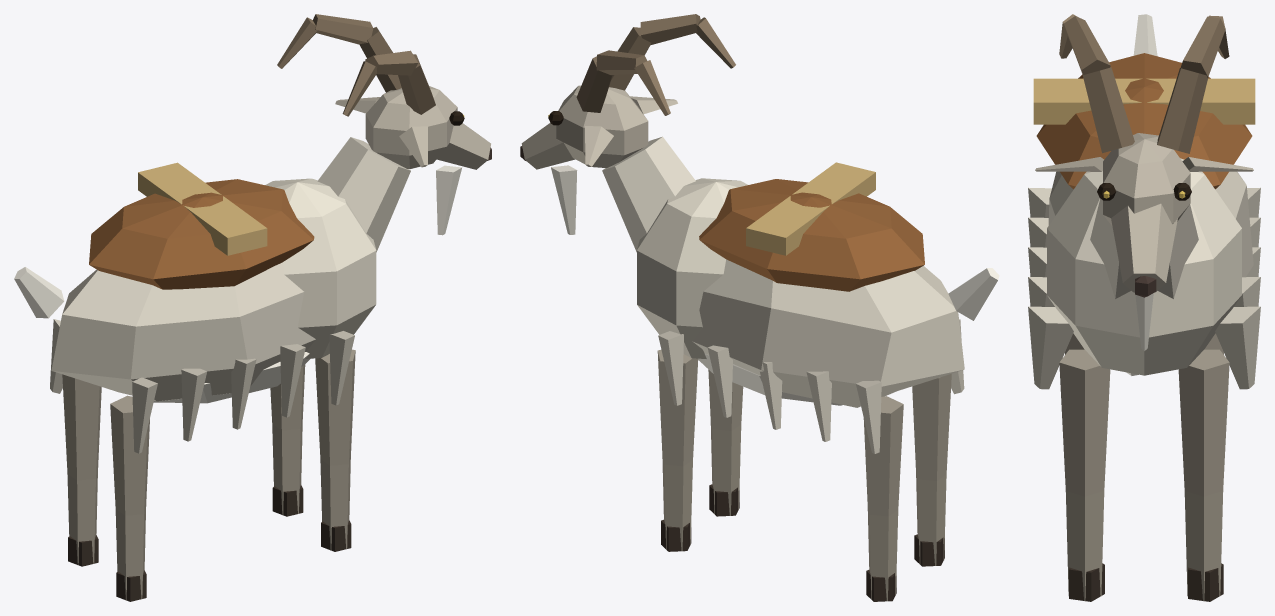
File: goat.glb
3 renders of one model, left to right at view 1: azimuth 30°, elevation 25°; view 2: azimuth 150°, elevation 25°; view 3: azimuth 270°, elevation 25°, orthographic. The views are drawn at different scales.
Visible parts, largest first — view 1: body, pet_armor, head, leg_bl, leg_br, leg_fr, leg_fl, tail; view 2: body, pet_armor, head, leg_br, leg_bl, leg_fl, leg_fr, tail; view 3: body, head, pet_armor, leg_fl, leg_fr, tail.
Boxes of the visible parts, x1=… form: body: x1=50, y1=137, x2=410, y2=453; pet_armor: x1=89, y1=162, x2=314, y2=289; head: x1=277, y1=14, x2=491, y2=235; leg_bl: x1=62, y1=374, x2=101, y2=566; leg_br: x1=110, y1=395, x2=149, y2=601; leg_fr: x1=315, y1=349, x2=355, y2=551; leg_fl: x1=270, y1=364, x2=305, y2=516; tail: x1=14, y1=267, x2=64, y2=318; body: x1=602, y1=136, x2=964, y2=453; pet_armor: x1=699, y1=162, x2=924, y2=291; head: x1=520, y1=14, x2=735, y2=234; leg_br: x1=912, y1=374, x2=951, y2=566; leg_bl: x1=863, y1=396, x2=903, y2=601; leg_fl: x1=657, y1=350, x2=698, y2=551; leg_fr: x1=708, y1=369, x2=743, y2=516; tail: x1=948, y1=268, x2=999, y2=320; body: x1=1028, y1=158, x2=1260, y2=389; head: x1=1035, y1=14, x2=1253, y2=350; pet_armor: x1=1033, y1=53, x2=1255, y2=189; leg_fl: x1=1178, y1=349, x2=1229, y2=601; leg_fr: x1=1059, y1=349, x2=1110, y2=601; tail: x1=1133, y1=14, x2=1157, y2=56.
Size of the model in its own units: 1.26 by 1.22 by 0.4312.
